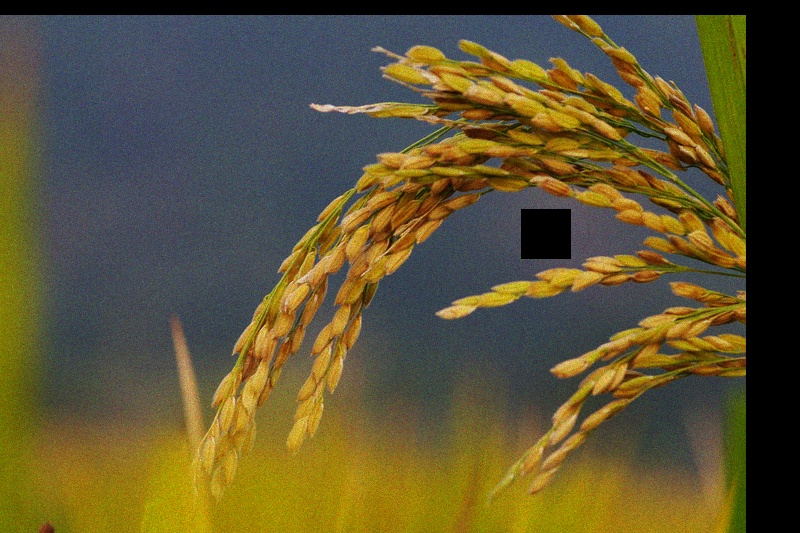rice: (189, 43, 741, 499)
